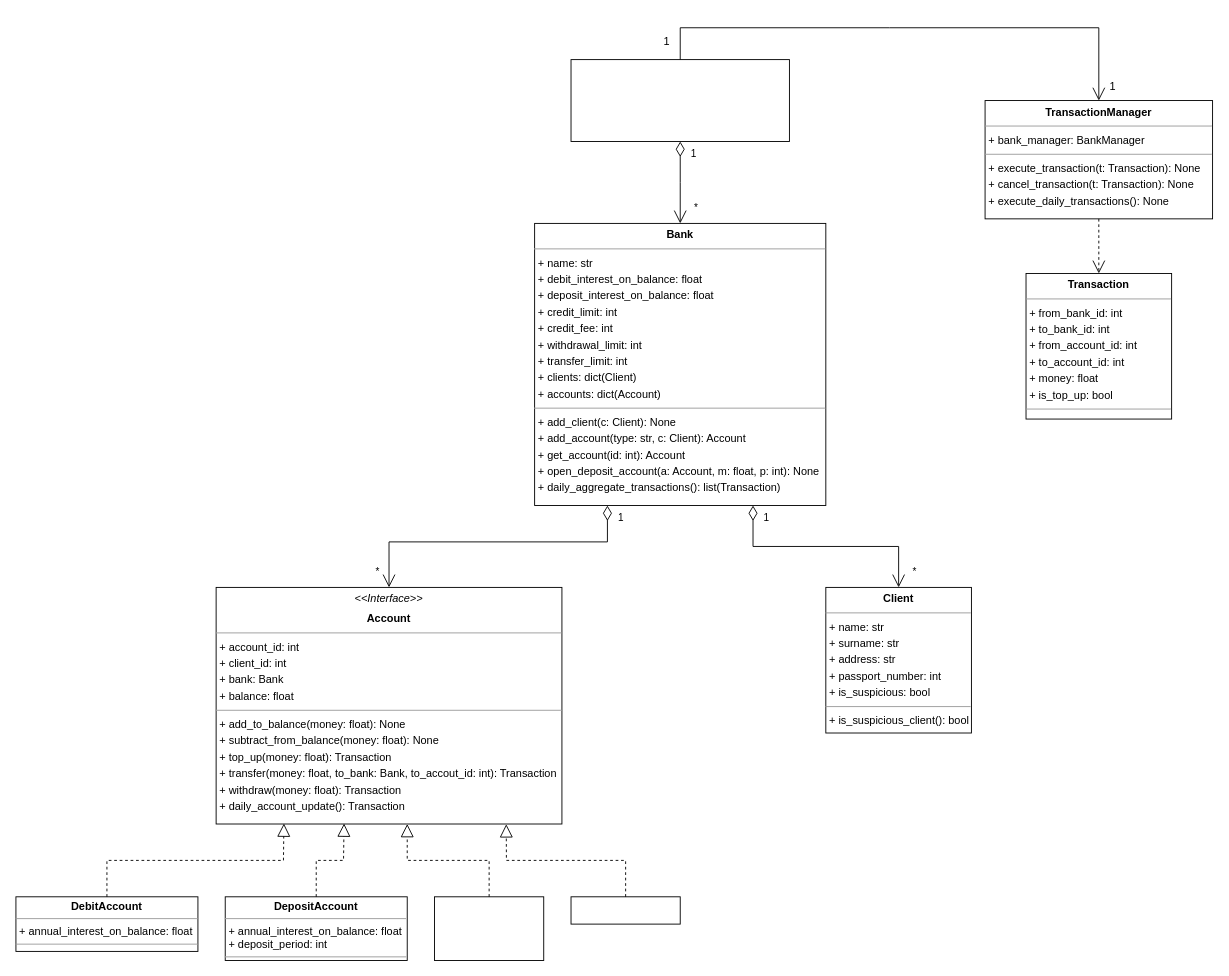
Some shapes in this 1229 by 976 pixel diagram are drawn without their labels. Each missing label, with the box of its shape:
BankAccount: (570, 896, 680, 924)
BankManager + banks: dict(Bank) + add_bank(name: str, kwargs: dict): Bank: (570, 59, 789, 142)
CreditAccount + limit: int + fee: int: (434, 896, 544, 961)
